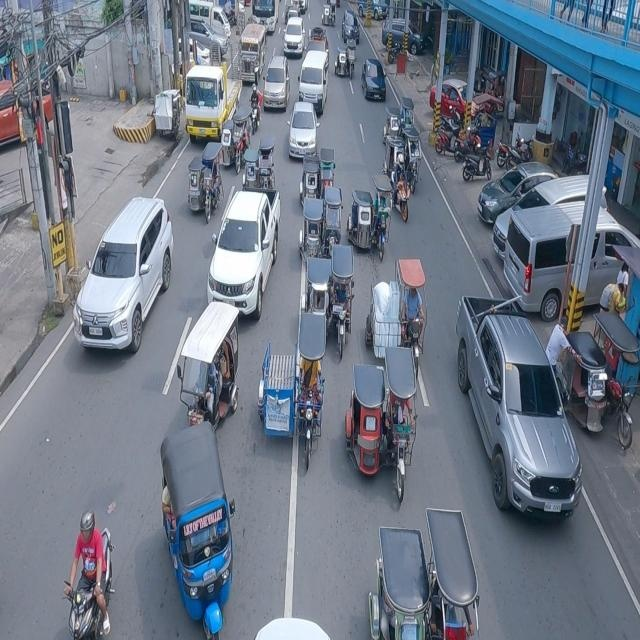Motorcycle: (60, 499, 125, 640), (389, 152, 414, 215)
Truck: (457, 294, 582, 527), (185, 59, 243, 142)
Van: (298, 51, 328, 110)
